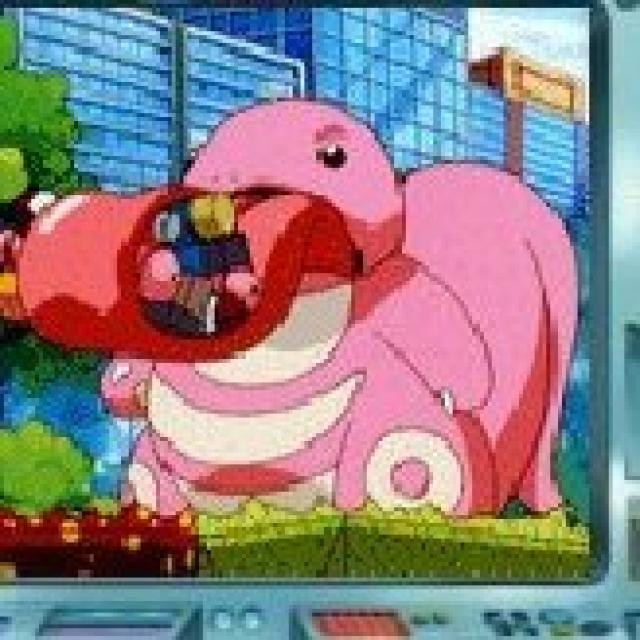Lickitung: (104, 97, 594, 538)
